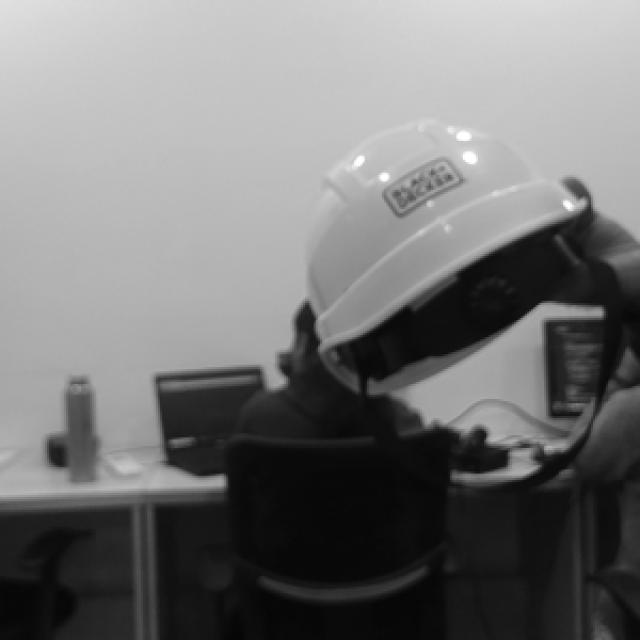safety_helmet: (308, 119, 588, 388)
